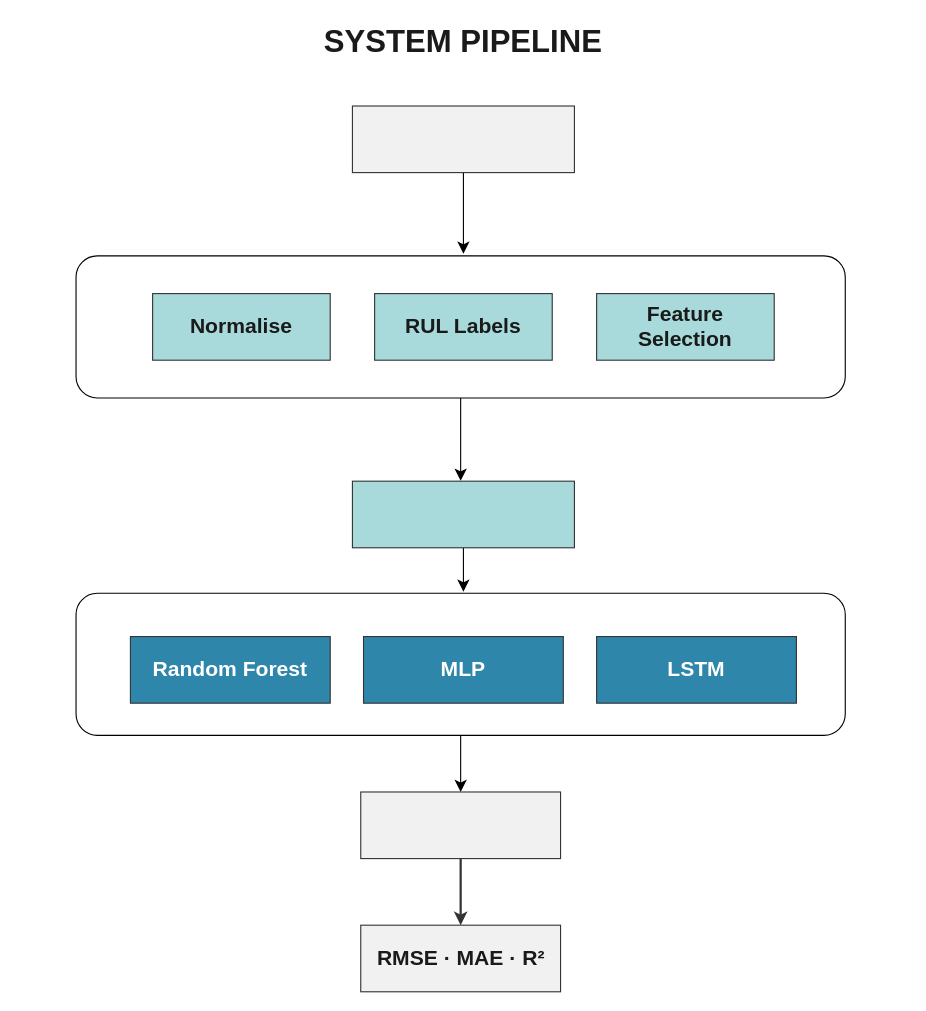
The diagram is 926 pixels wide and 1011 high, and some of its shapes have lost their labels. Each missing label, with the box of its shape:
Evaluation: (360, 791, 561, 859)
NASA C-MAPS: (351, 105, 574, 173)
Train / Test Split: (351, 480, 574, 548)
